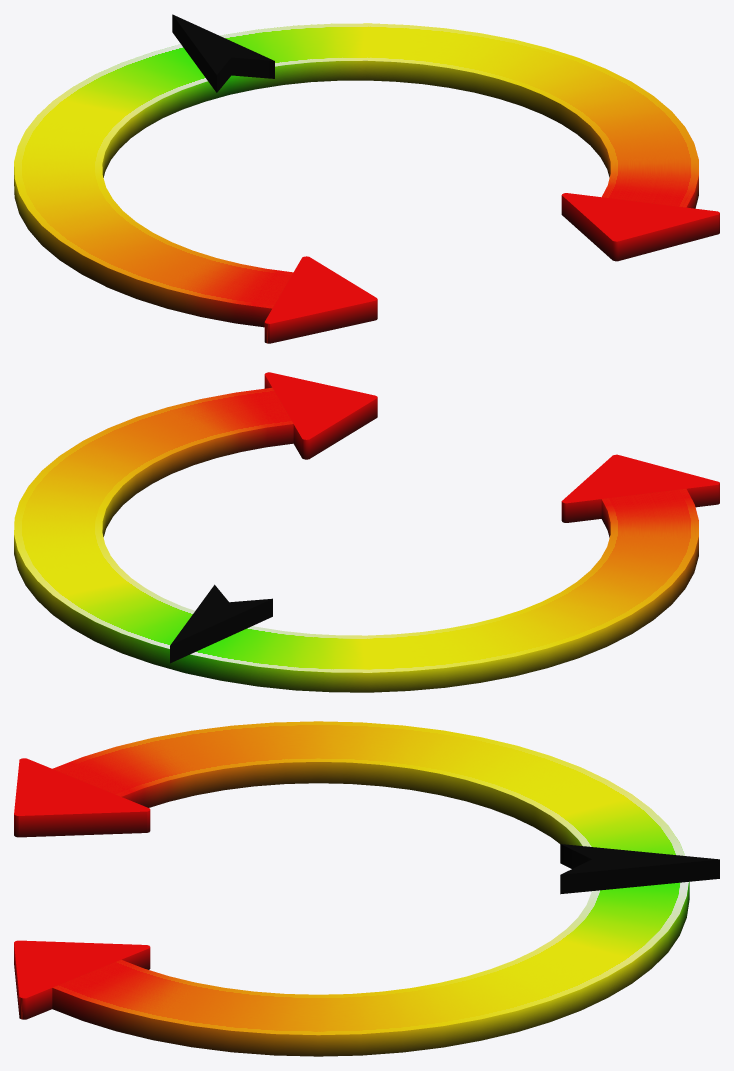
Rendered from spin_circle.glb.
The picture shows the model from 3 angles, top to bottom: view 1: azimuth 30°, elevation 25°; view 2: azimuth 150°, elevation 25°; view 3: azimuth 270°, elevation 25°; orthographic projection. The views are drawn at different scales.
Visible parts, largest first — view 1: spin, Object, indicator; view 2: spin, Object, indicator; view 3: spin, Object, indicator.
Part boxes in pixels (x1,y1,x2,y2): spin: [14, 23, 698, 327]; Object: [264, 193, 719, 343]; indicator: [172, 14, 274, 92]; spin: [14, 387, 698, 692]; Object: [264, 372, 719, 522]; indicator: [170, 584, 272, 663]; spin: [52, 721, 689, 1056]; Object: [14, 758, 150, 1019]; indicator: [560, 844, 719, 894].
Bounding box in the file's own units: 0.6291 × 0.0382 × 0.5981.
Materials: 3 (2 with a texture image).
